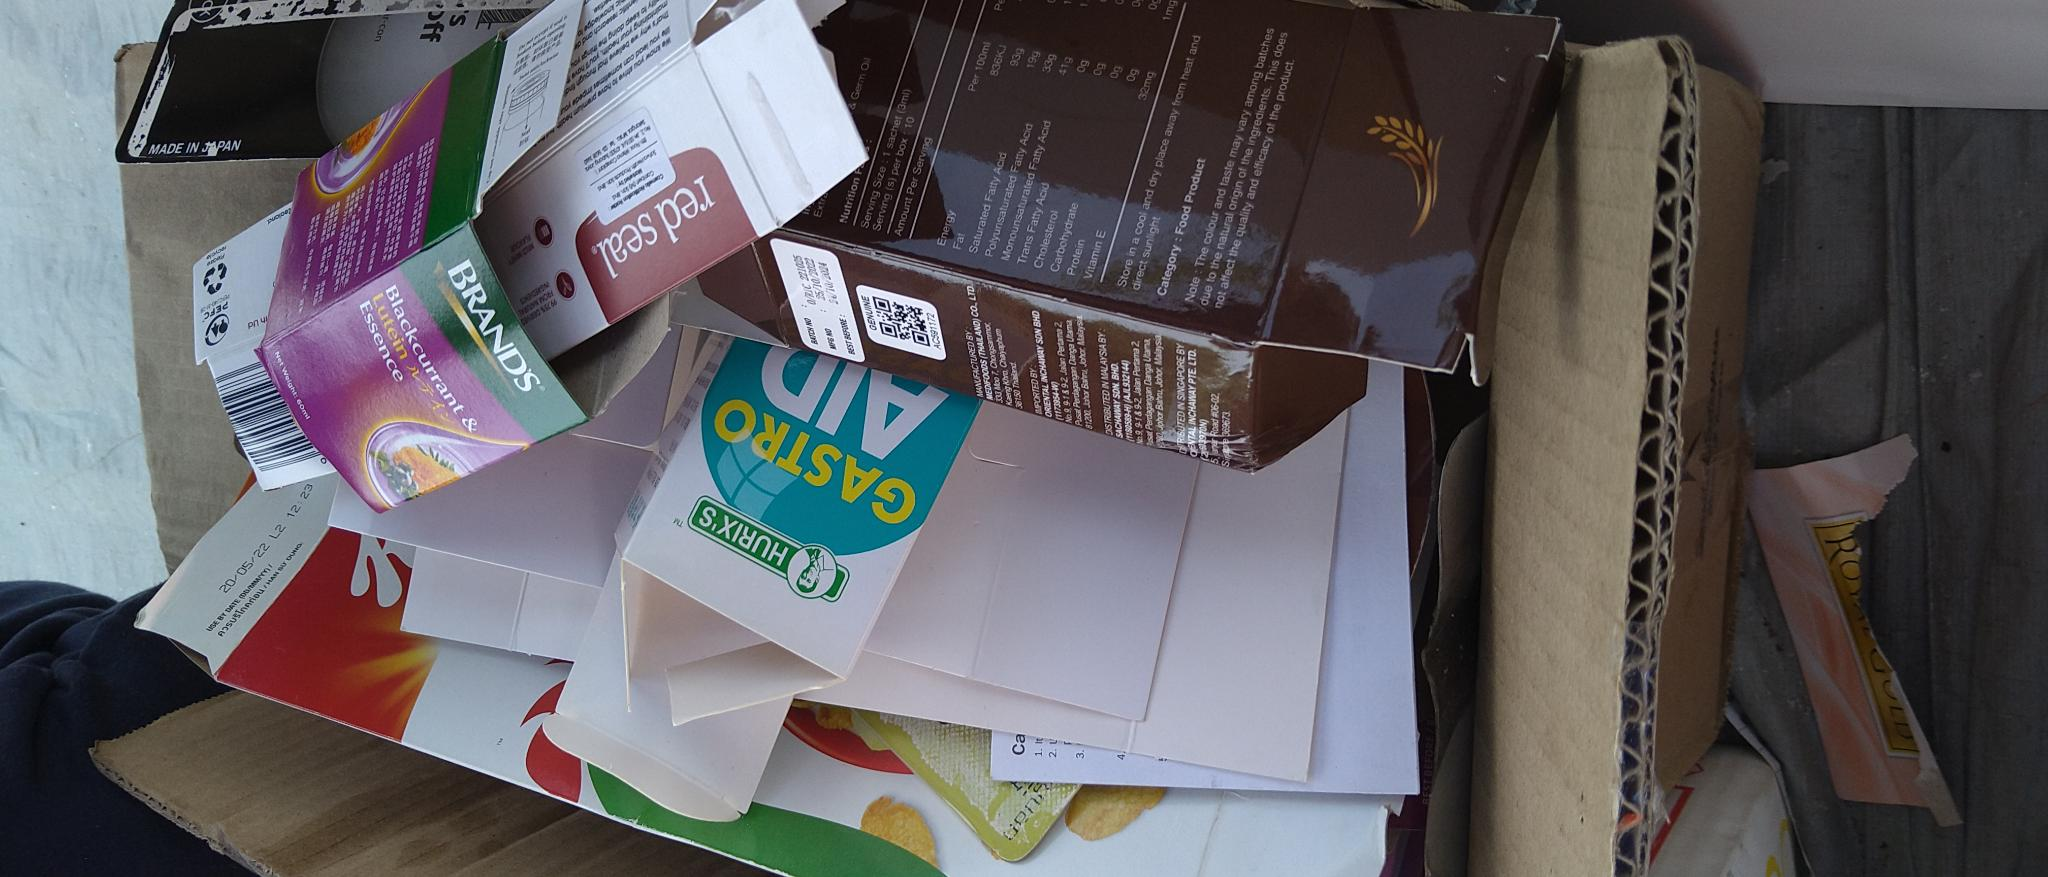cardboard: (538, 336, 1425, 870), (264, 0, 862, 505), (546, 337, 980, 816)
